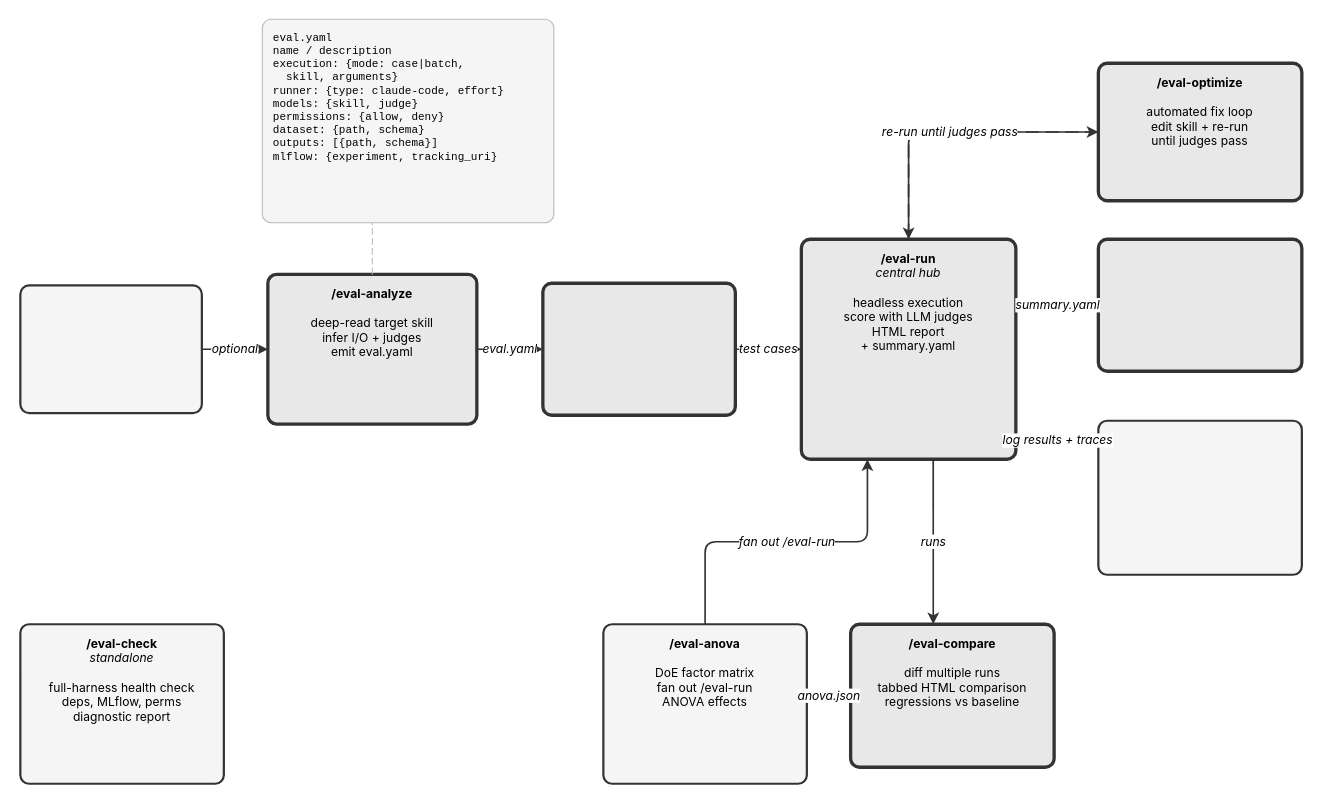
Some shapes in this 1322 by 804 pixel diagram are drawn without their labels. Each missing label, with the box of its shape:
/eval-dataset generate test cases inputs + expectations cover edge cases: (541, 281, 736, 416)
/eval-mlflow sync dataset log results + traces push / pull feedback: (1097, 419, 1302, 575)
/eval-review human-in-the-loop walk per-case results collect review.yaml: (1096, 237, 1303, 372)
/eval-setup optional env + credentials MLflow config verify harness deps: (19, 284, 202, 414)
